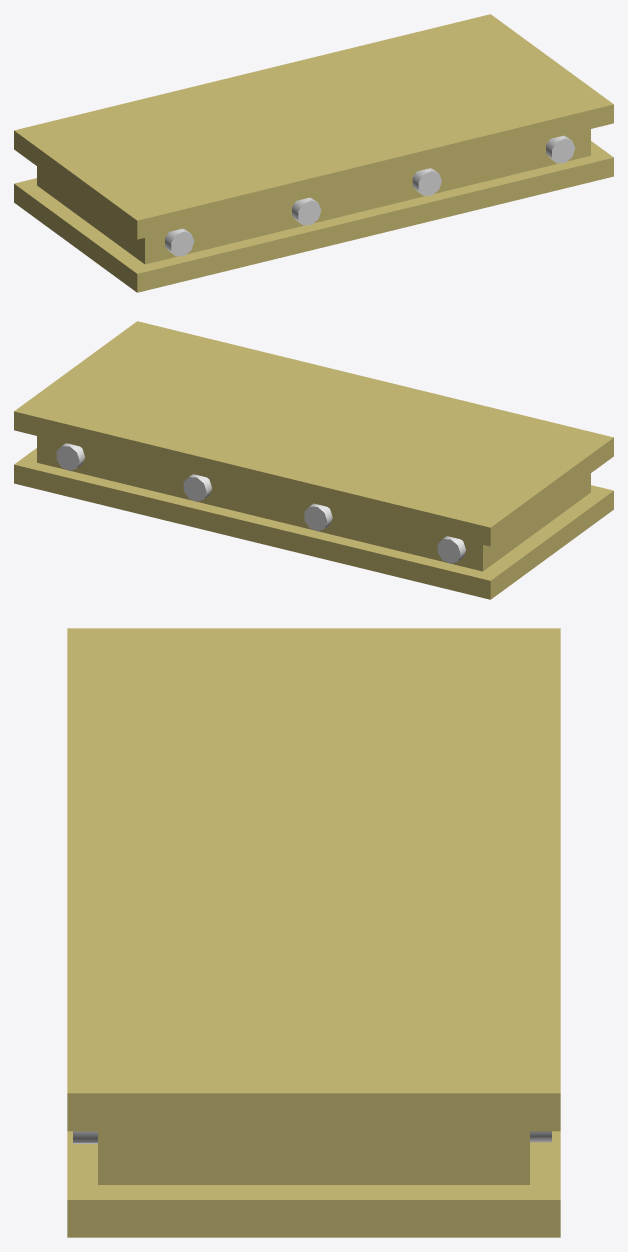
Rendered from Trapdoor.FBX.
3 views of the same model, one above another, from view 1: azimuth 30°, elevation 25°; view 2: azimuth 150°, elevation 25°; view 3: azimuth 270°, elevation 25° (orthographic). The views are drawn at different scales.
Visible parts, largest first — view 1: Box01, Cylinder02; view 2: Box01, Cylinder02; view 3: Box01.
Part boxes in pixels (<box>): Box01: <box>14,14,613,292</box>; Cylinder02: <box>165,135,575,256</box>; Box01: <box>14,321,613,599</box>; Cylinder02: <box>56,443,465,563</box>; Box01: <box>67,628,560,1237</box>.
Size of the model in its own units: 4.39 by 0.6341 by 1.97.
